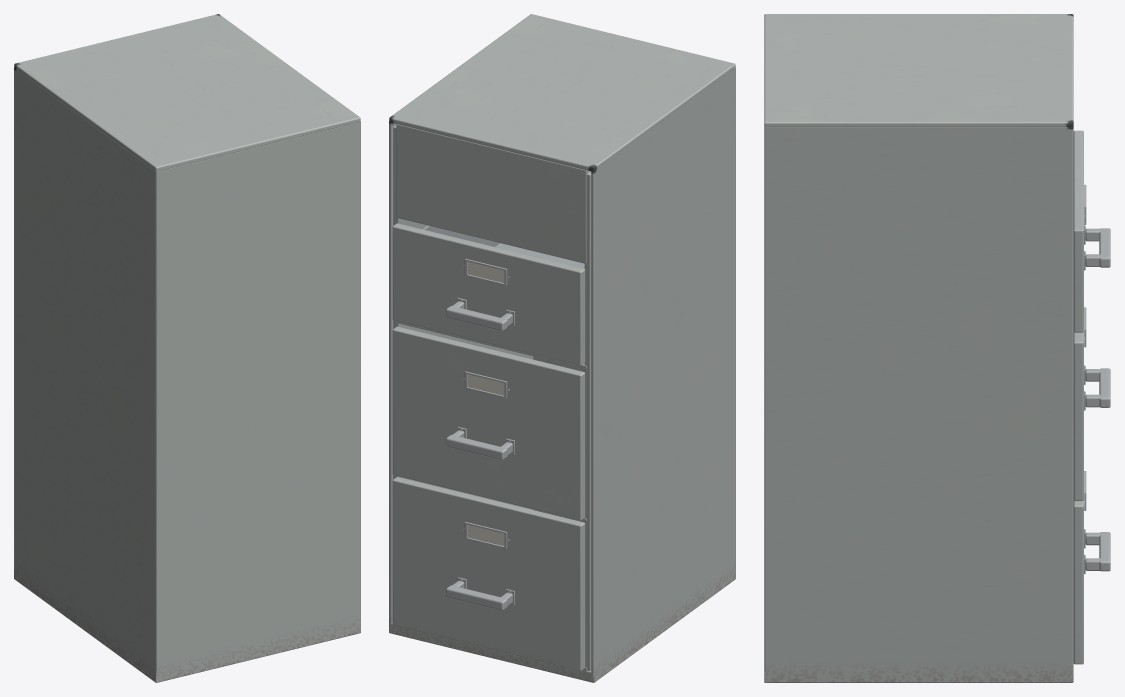
Rendered from filing_cabinet_keypad.glb.
3 views of the same model, side by side, from view 1: azimuth 30°, elevation 25°; view 2: azimuth 150°, elevation 25°; view 3: azimuth 270°, elevation 25° (orthographic). The views are drawn at different scales.
Parts seen in each view (by area): view 1: body; view 2: body, drawer_mid, drawer_low, drawer_top; view 3: body, drawer_top, drawer_mid, drawer_low.
Part boxes in pixels (left/top/right/bottom): body: left=14, top=14, right=360, bottom=682; body: left=389, top=14, right=735, bottom=682; drawer_mid: left=392, top=326, right=585, bottom=520; drawer_low: left=392, top=477, right=585, bottom=671; drawer_top: left=392, top=223, right=585, bottom=365; body: left=764, top=14, right=1073, bottom=682; drawer_top: left=1073, top=130, right=1110, bottom=332; drawer_mid: left=1073, top=307, right=1110, bottom=500; drawer_low: left=1073, top=471, right=1110, bottom=664.
Bounding box in the file's own units: 0.5 × 1.2 × 0.672.
Materials: 4 (4 with a texture image).
